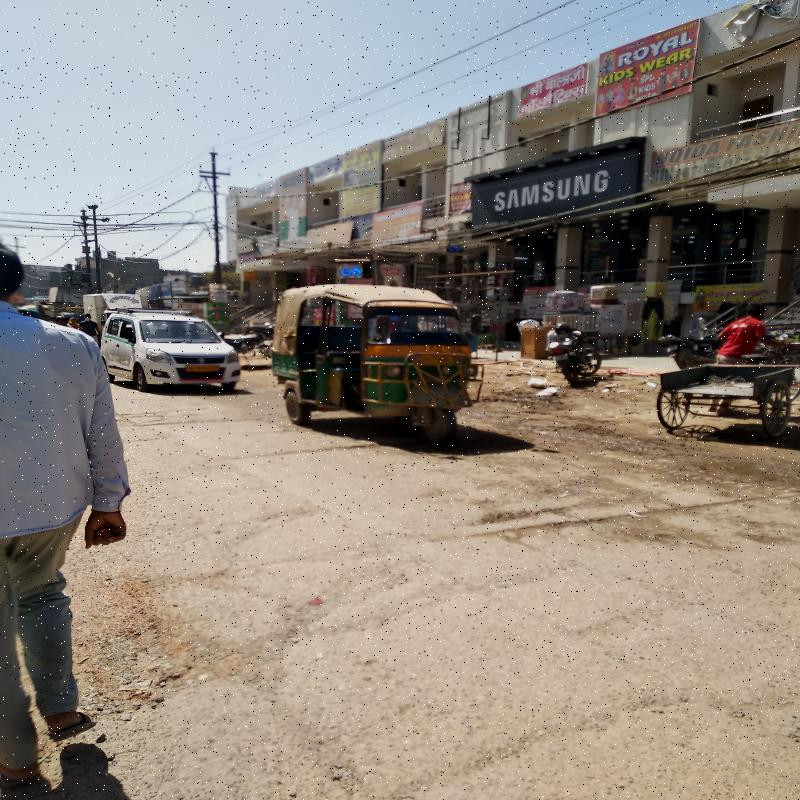auto: (276, 290, 474, 442)
